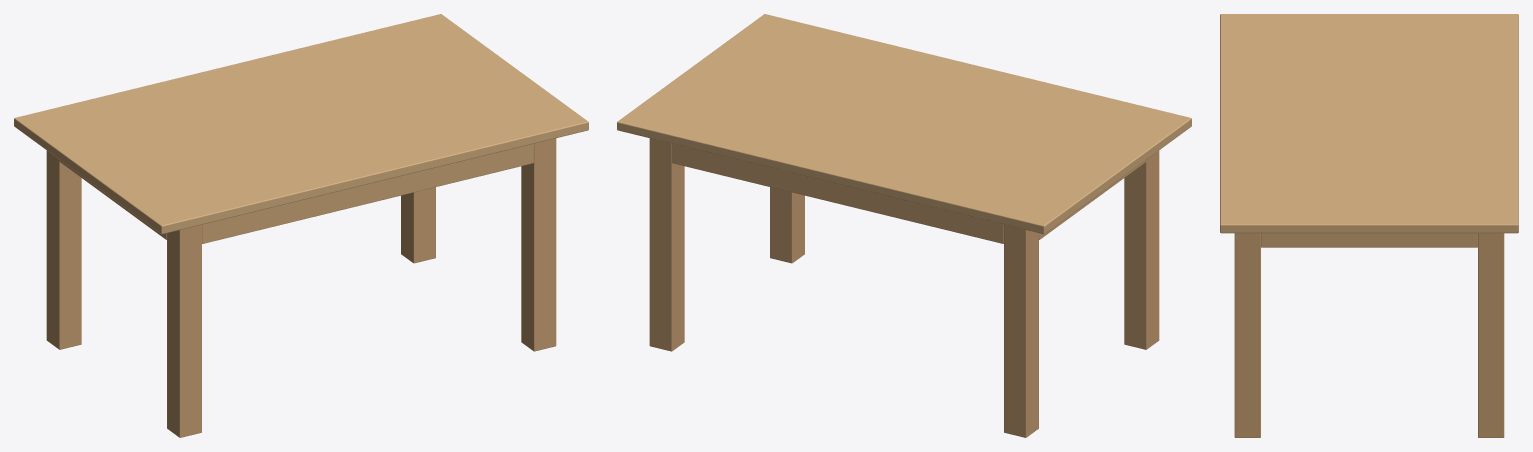
Rendered from Farmhouse_dining_table.fbx.
3 renders of one model, left to right at view 1: azimuth 30°, elevation 25°; view 2: azimuth 150°, elevation 25°; view 3: azimuth 270°, elevation 25°, orthographic.
Parts seen in each view (by area): view 1: top, leg.front_left_1, leg.front_left_2, apron.long_1, leg.front_left_3, leg.front_left_4; view 2: top, leg.front_left_3, leg.front_left_4, apron.long_2, leg.front_left_1, leg.front_left_2; view 3: top, leg.front_left_2, leg.front_left_4, apron.short_2.
Part boxes in pixels (x1=…): top: x1=14, y1=14, x2=588, y2=234; leg.front_left_1: x1=167, y1=224, x2=201, y2=437; leg.front_left_2: x1=521, y1=138, x2=556, y2=351; apron.long_1: x1=202, y1=143, x2=533, y2=243; leg.front_left_3: x1=46, y1=150, x2=81, y2=349; leg.front_left_4: x1=401, y1=187, x2=435, y2=263; top: x1=617, y1=14, x2=1191, y2=234; leg.front_left_3: x1=1004, y1=224, x2=1038, y2=437; leg.front_left_4: x1=649, y1=138, x2=684, y2=351; apron.long_2: x1=672, y1=143, x2=1003, y2=243; leg.front_left_1: x1=1124, y1=150, x2=1159, y2=349; leg.front_left_2: x1=770, y1=187, x2=804, y2=263; top: x1=1220, y1=14, x2=1518, y2=233; leg.front_left_2: x1=1234, y1=233, x2=1260, y2=437; leg.front_left_4: x1=1478, y1=233, x2=1504, y2=437; apron.short_2: x1=1261, y1=233, x2=1477, y2=247.
Bounding box in the file's own units: 152 × 76 × 91.
